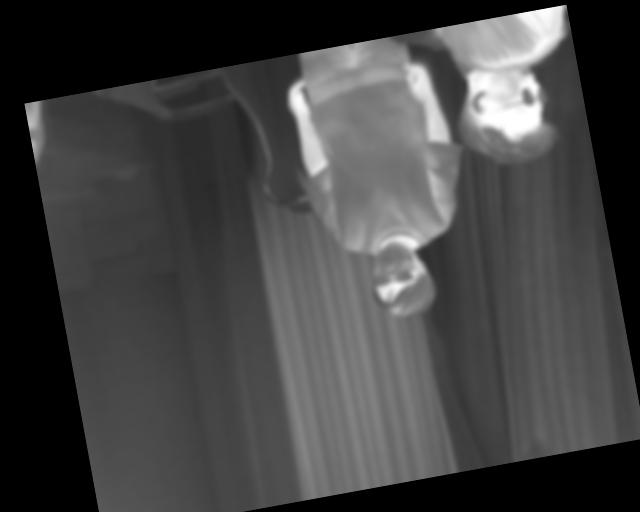face: (363, 235, 438, 323)
